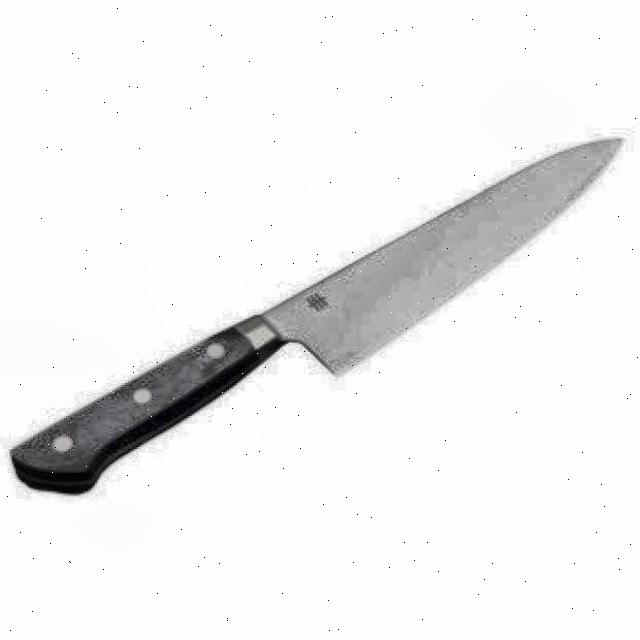knife: (9, 134, 625, 500)
